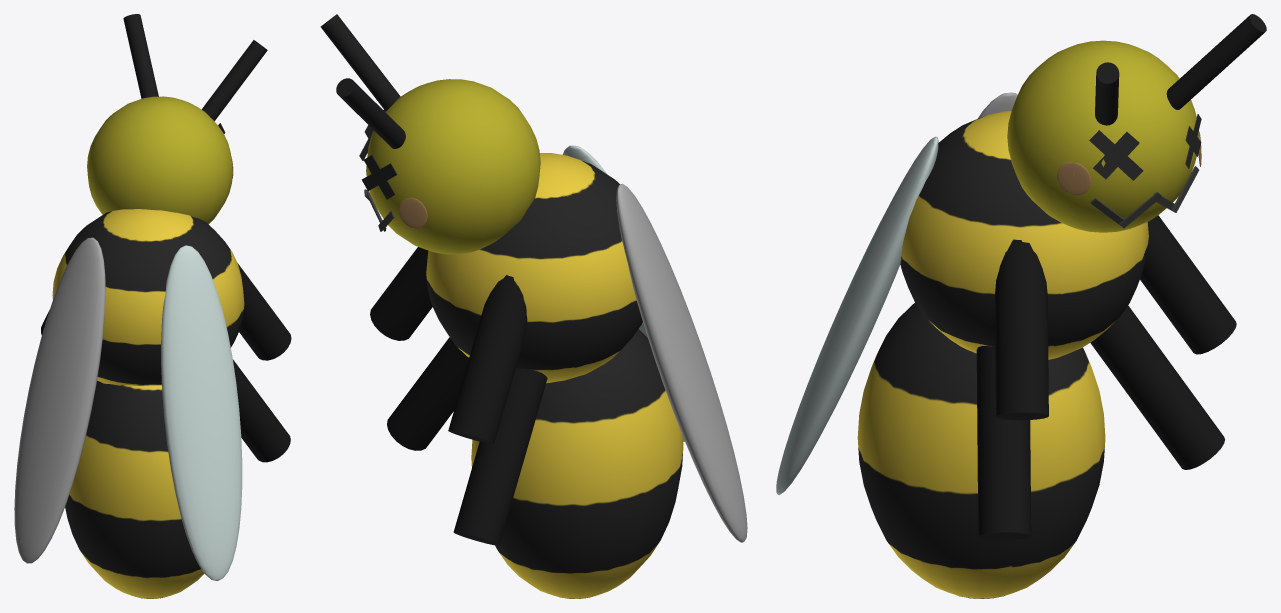
The model's file is Doll.fbx.
The picture shows the model from 3 angles, left to right: view 1: azimuth 30°, elevation 25°; view 2: azimuth 150°, elevation 25°; view 3: azimuth 270°, elevation 25°; orthographic projection. The views are drawn at different scales.
Visible parts, largest first — view 1: Bee_Doll; view 2: Bee_Doll; view 3: Bee_Doll.
Part boxes in pixels (x1,y1,x2,y2): Bee_Doll: [14, 14, 291, 598]; Bee_Doll: [320, 14, 747, 598]; Bee_Doll: [776, 14, 1266, 598].
Size of the model in its own units: 62.68 by 96.73 by 68.05.
